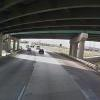Bridge: (4, 11, 97, 46)
